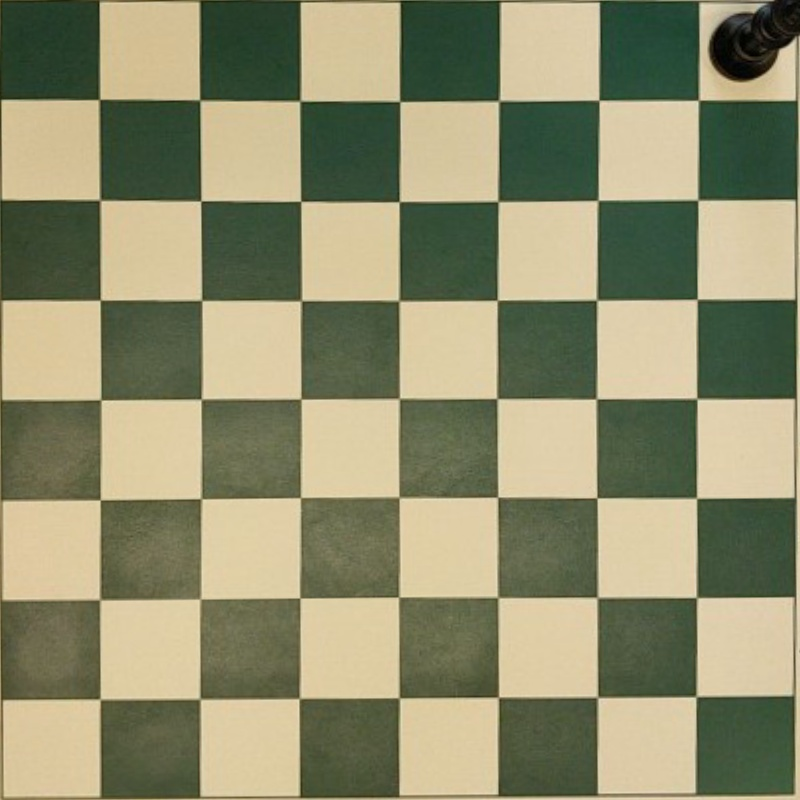black-king: (710, 0, 800, 80)
